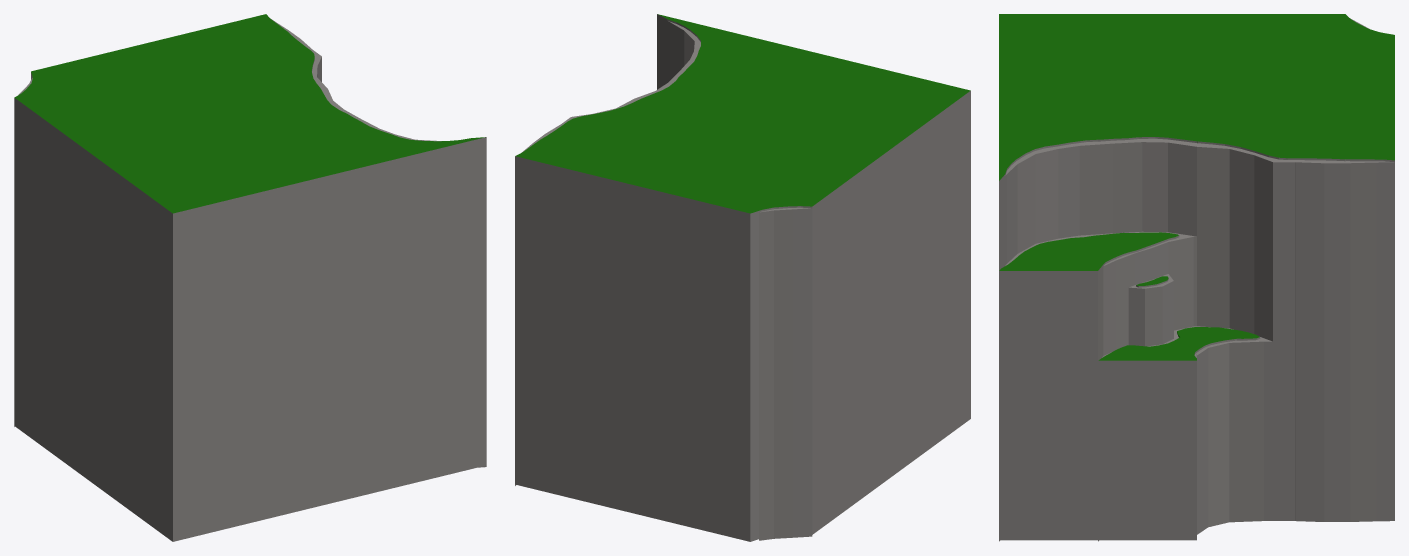
Rendered from STMDoubleMountain.fbx.
3 renders of one model, left to right at view 1: azimuth 30°, elevation 25°; view 2: azimuth 150°, elevation 25°; view 3: azimuth 270°, elevation 25°, orthographic. The views are drawn at different scales.
Visible parts, largest first — view 1: Plane.021; view 2: Plane.021; view 3: Plane.021.
Part boxes in pixels (x1=…): Plane.021: x1=14, y1=14, x2=486, y2=541; Plane.021: x1=515, y1=14, x2=970, y2=541; Plane.021: x1=999, y1=14, x2=1394, y2=541.
Size of the model in its own units: 100 by 101 by 100.
